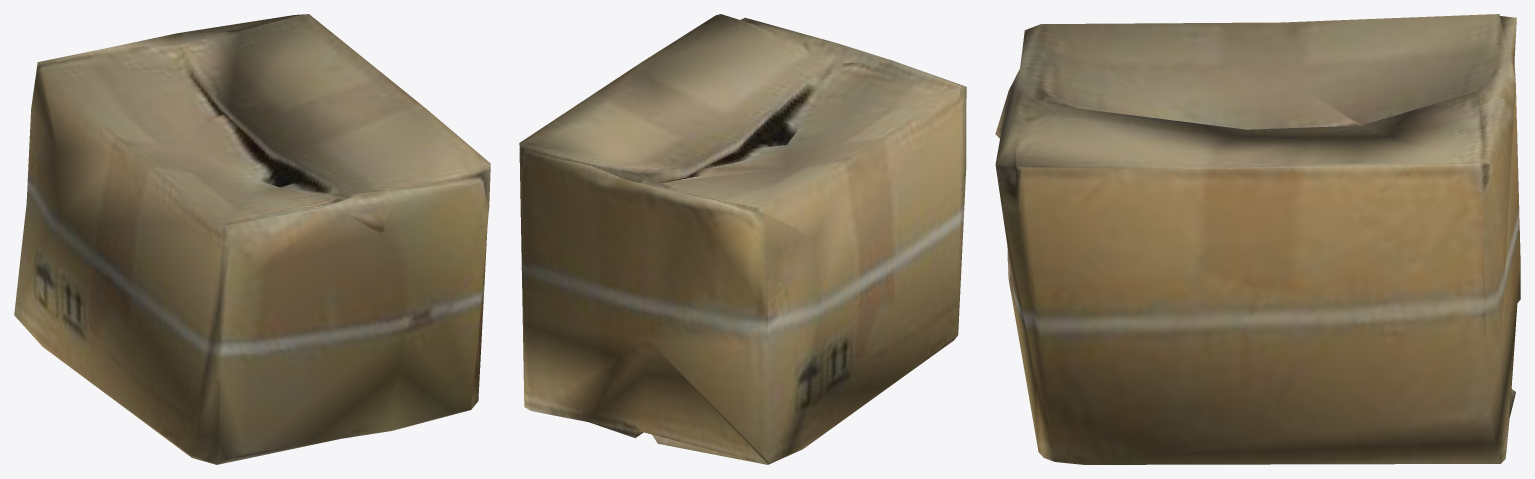
Rendered from cardboard_box_01.glb.
The picture shows the model from 3 angles, left to right: view 1: azimuth 30°, elevation 25°; view 2: azimuth 150°, elevation 25°; view 3: azimuth 270°, elevation 25°; orthographic projection. The views are drawn at different scales.
Parts seen in each view (by area): view 1: cardboard_box_01; view 2: cardboard_box_01; view 3: cardboard_box_01.
Boxes of the visible parts, x1,y1,x2,y2 form: cardboard_box_01: (14, 14, 490, 464); cardboard_box_01: (519, 14, 966, 464); cardboard_box_01: (995, 14, 1520, 464).
Bounding box in the file's own units: 0.3816 × 0.3387 × 0.5152.
1 material, 1 textured.
